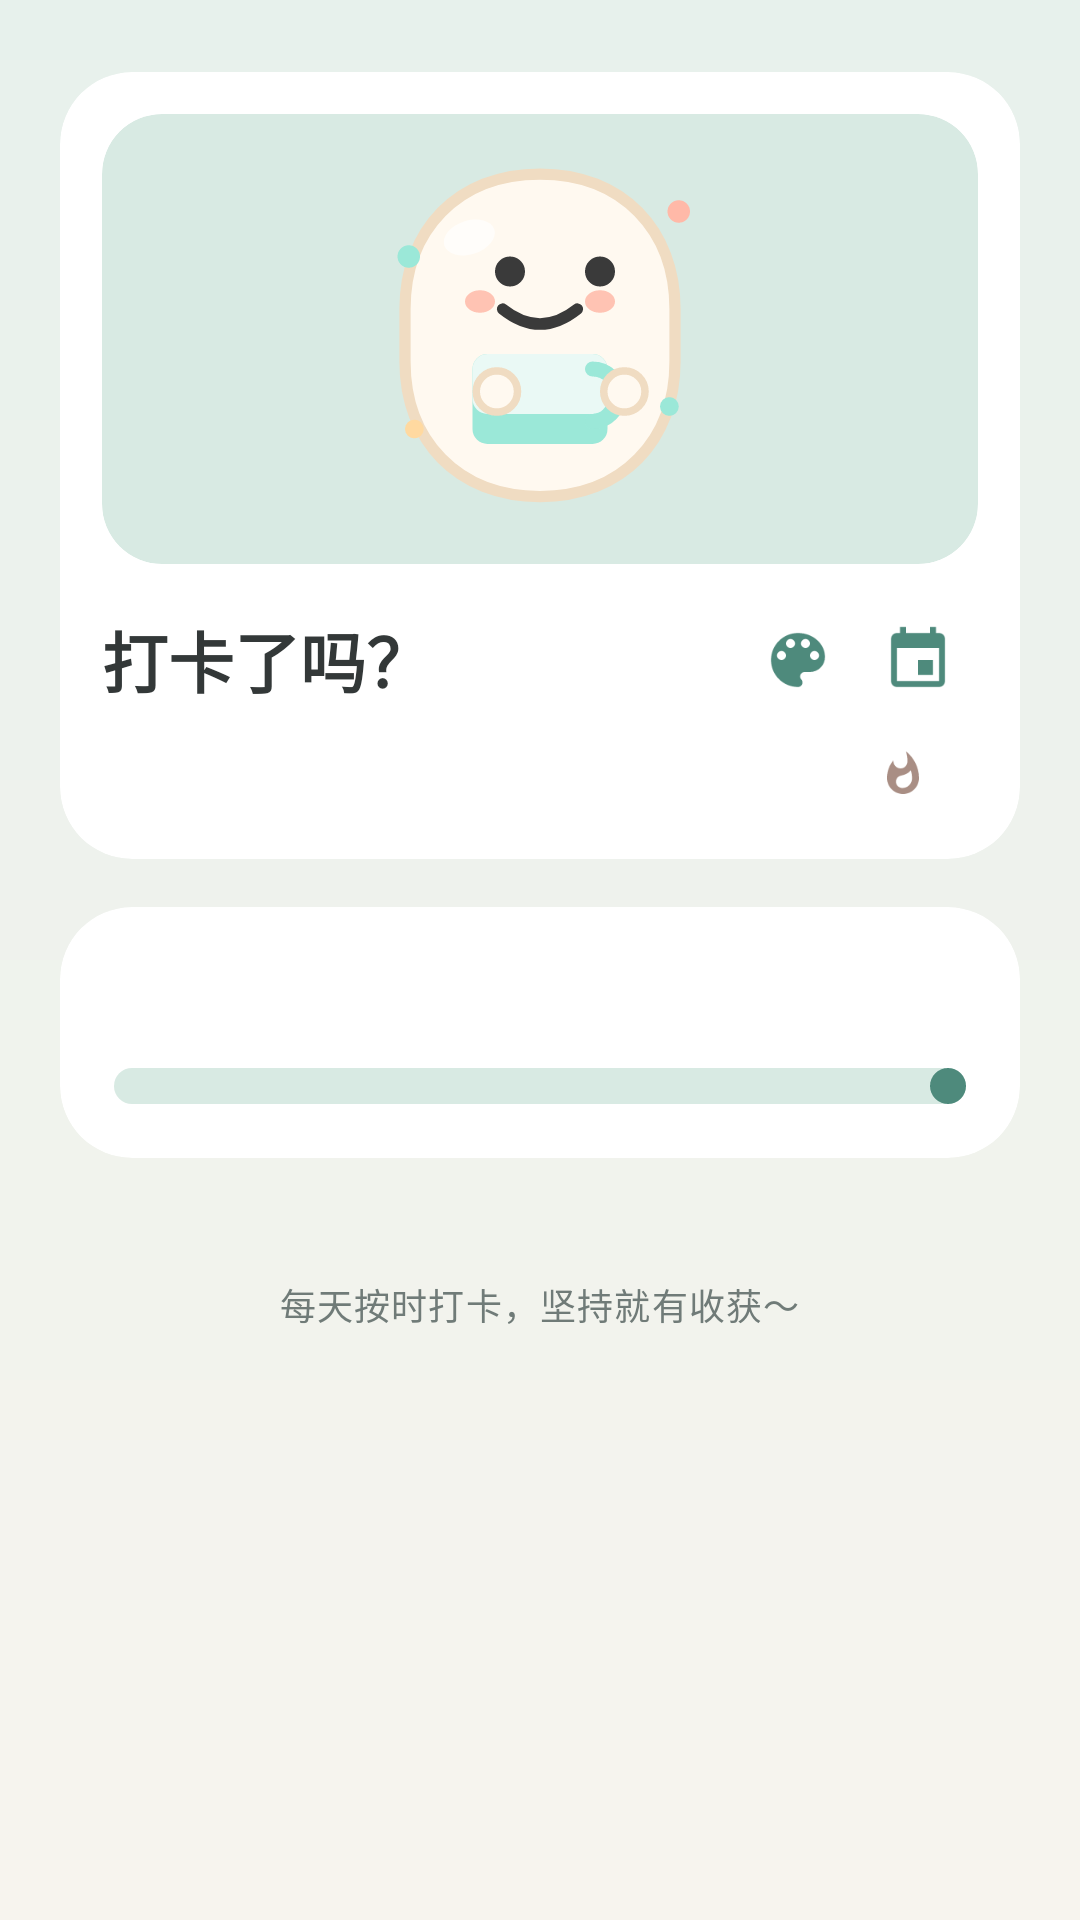

Icons on this 1080*1920 Android screen, each with its box as (x1, y1, x2, y2):
flame: (887, 751, 919, 794)
个性化: (771, 633, 825, 687)
打卡日历: (891, 626, 945, 687)
